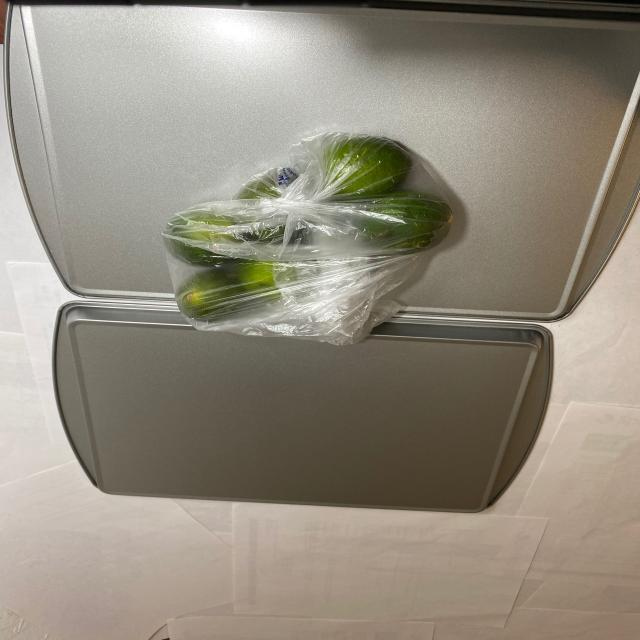lemon: (163, 139, 450, 335)
